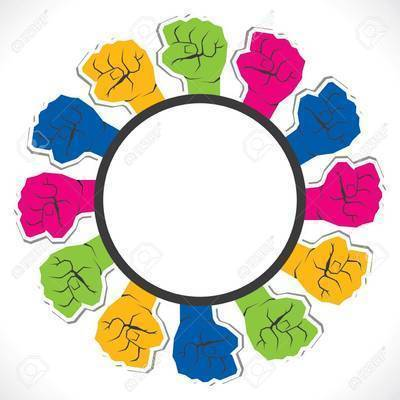closedhandfront: (26, 240, 118, 326), (21, 75, 102, 171), (76, 31, 159, 118), (239, 292, 334, 366), (172, 309, 260, 387), (19, 159, 96, 245), (152, 11, 228, 96), (237, 13, 305, 108), (300, 65, 367, 158), (301, 225, 373, 309), (97, 292, 168, 377), (325, 147, 388, 230)
